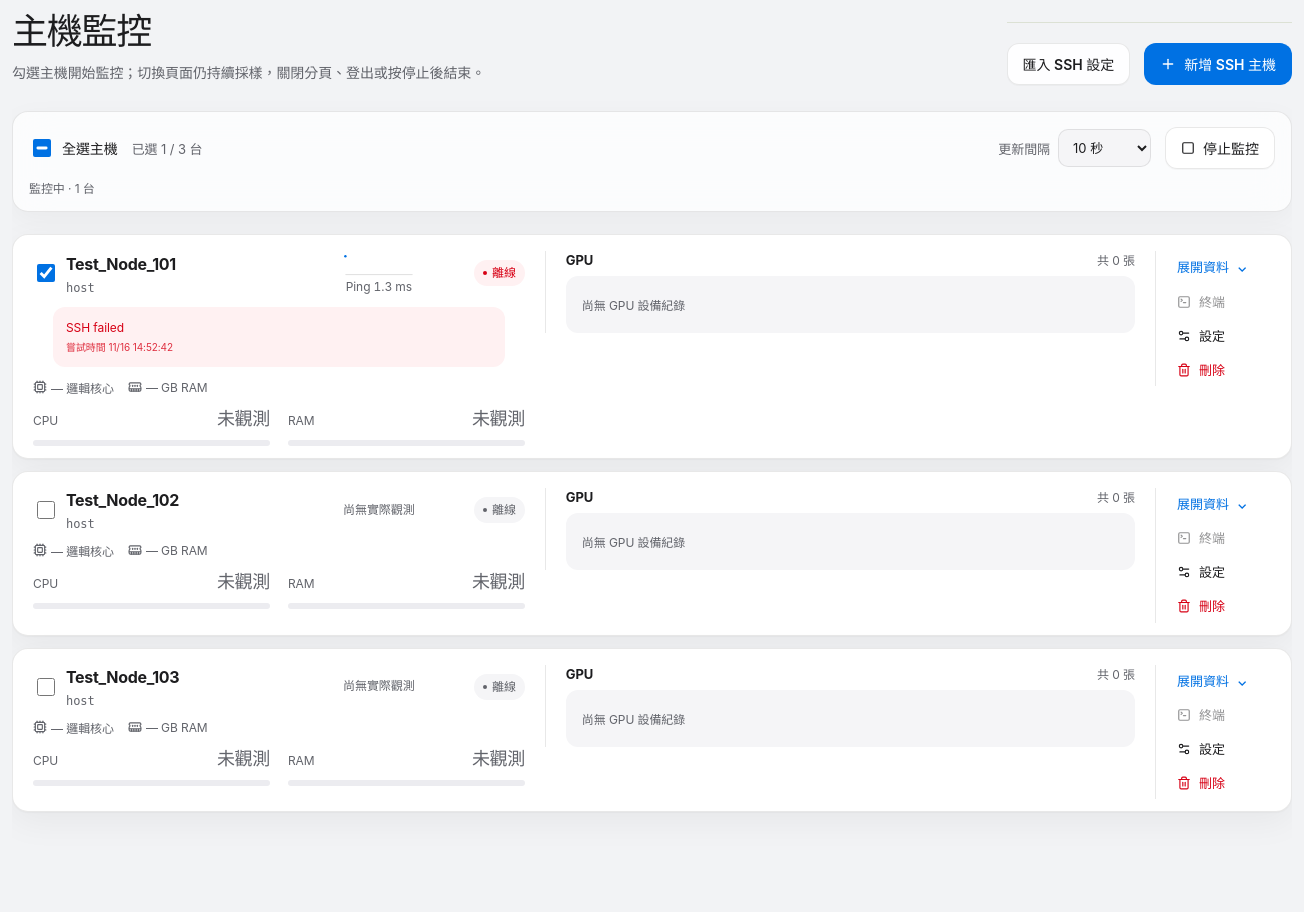
shows ping only for monitored hosts and hides it after stopping
expect the text "Ping 1.3 ms" is shown once: met, box top-left (346, 279), bottom-right (412, 294)
Click the button "停止監控": (1220, 148) top-left (1165, 127), bottom-right (1275, 169)
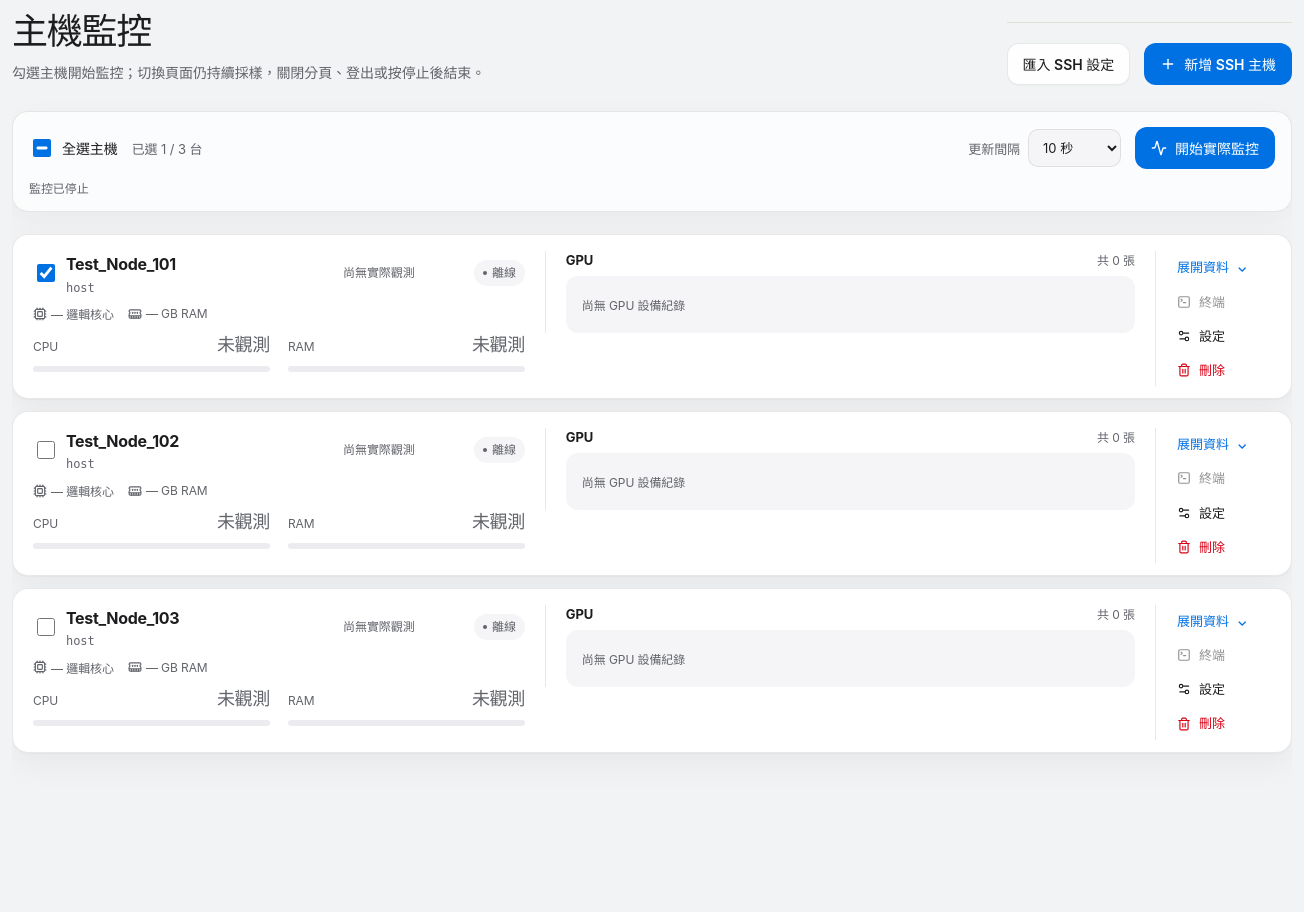
expect the text "Ping 1.3 ms" is gone: met
